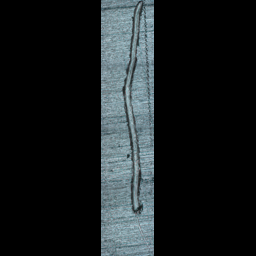d: (121, 0, 148, 218)
